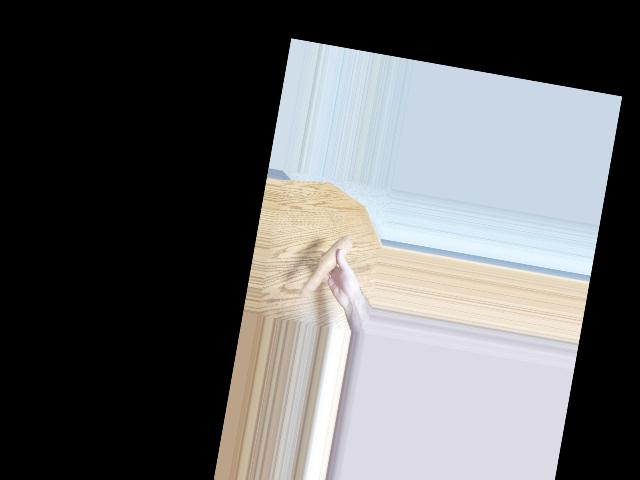sweet_potato: (304, 222, 352, 302)
